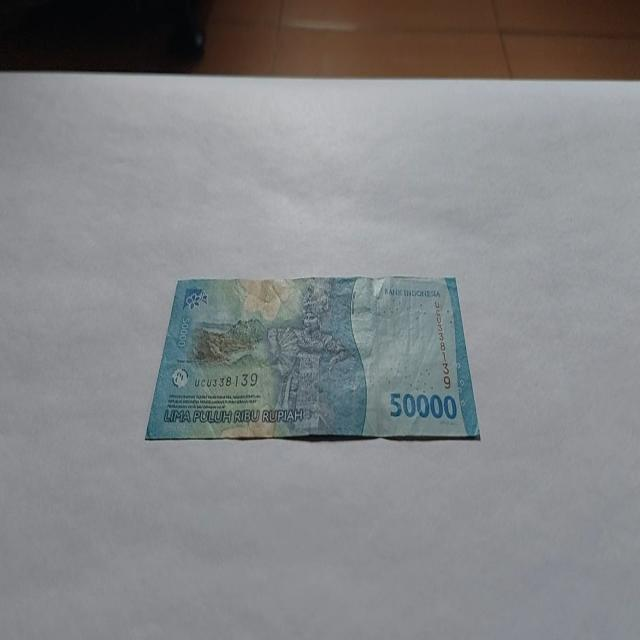lima puluh ribu rupiah: (144, 273, 481, 443)
